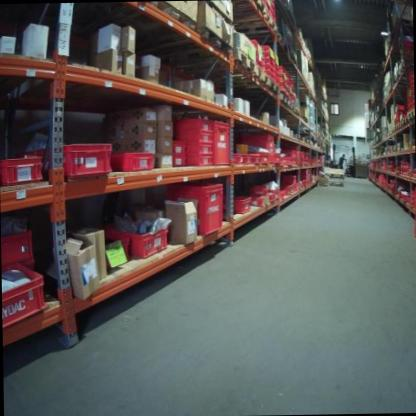pallet: (106, 3, 198, 47), (155, 28, 236, 62), (188, 48, 259, 81), (214, 72, 279, 96), (233, 13, 283, 44), (208, 0, 265, 18), (241, 89, 290, 108), (260, 102, 296, 114), (281, 109, 300, 117), (407, 105, 414, 120), (402, 113, 409, 126), (392, 122, 399, 134), (398, 116, 404, 129)
pallet_truck: (344, 144, 359, 176), (328, 140, 338, 167)
small_load_carrier: (18, 139, 116, 188), (169, 177, 226, 238), (1, 267, 49, 330), (94, 221, 171, 259), (0, 153, 45, 189), (1, 226, 36, 271), (107, 148, 156, 175), (239, 130, 275, 166), (174, 141, 210, 166), (212, 118, 230, 165), (170, 115, 213, 133), (231, 194, 252, 217), (277, 172, 298, 193), (170, 132, 213, 140), (235, 153, 255, 170), (248, 183, 270, 197), (253, 149, 268, 167), (226, 153, 243, 168), (284, 149, 300, 164), (248, 197, 265, 210), (249, 37, 262, 54), (171, 140, 186, 154), (274, 159, 287, 173), (253, 56, 264, 71), (248, 155, 261, 167), (257, 45, 273, 54), (171, 154, 185, 164), (269, 187, 280, 198), (262, 60, 273, 69), (263, 68, 274, 77), (262, 54, 274, 60), (282, 159, 294, 165), (274, 152, 280, 163), (287, 185, 293, 195), (267, 193, 274, 200)
